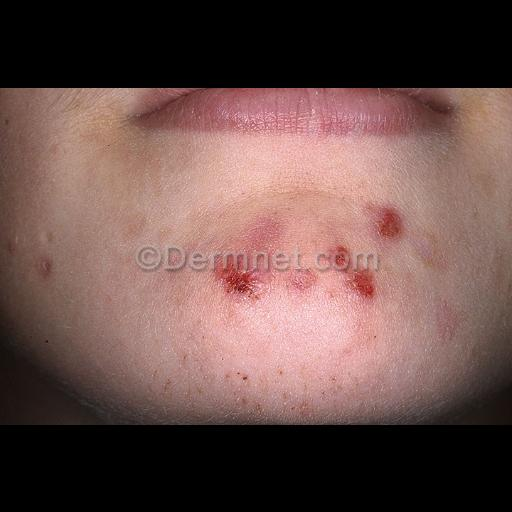Skin_Lesion: (332, 238, 380, 302), (220, 256, 266, 300), (286, 256, 320, 302), (375, 206, 411, 236), (36, 256, 56, 276)
